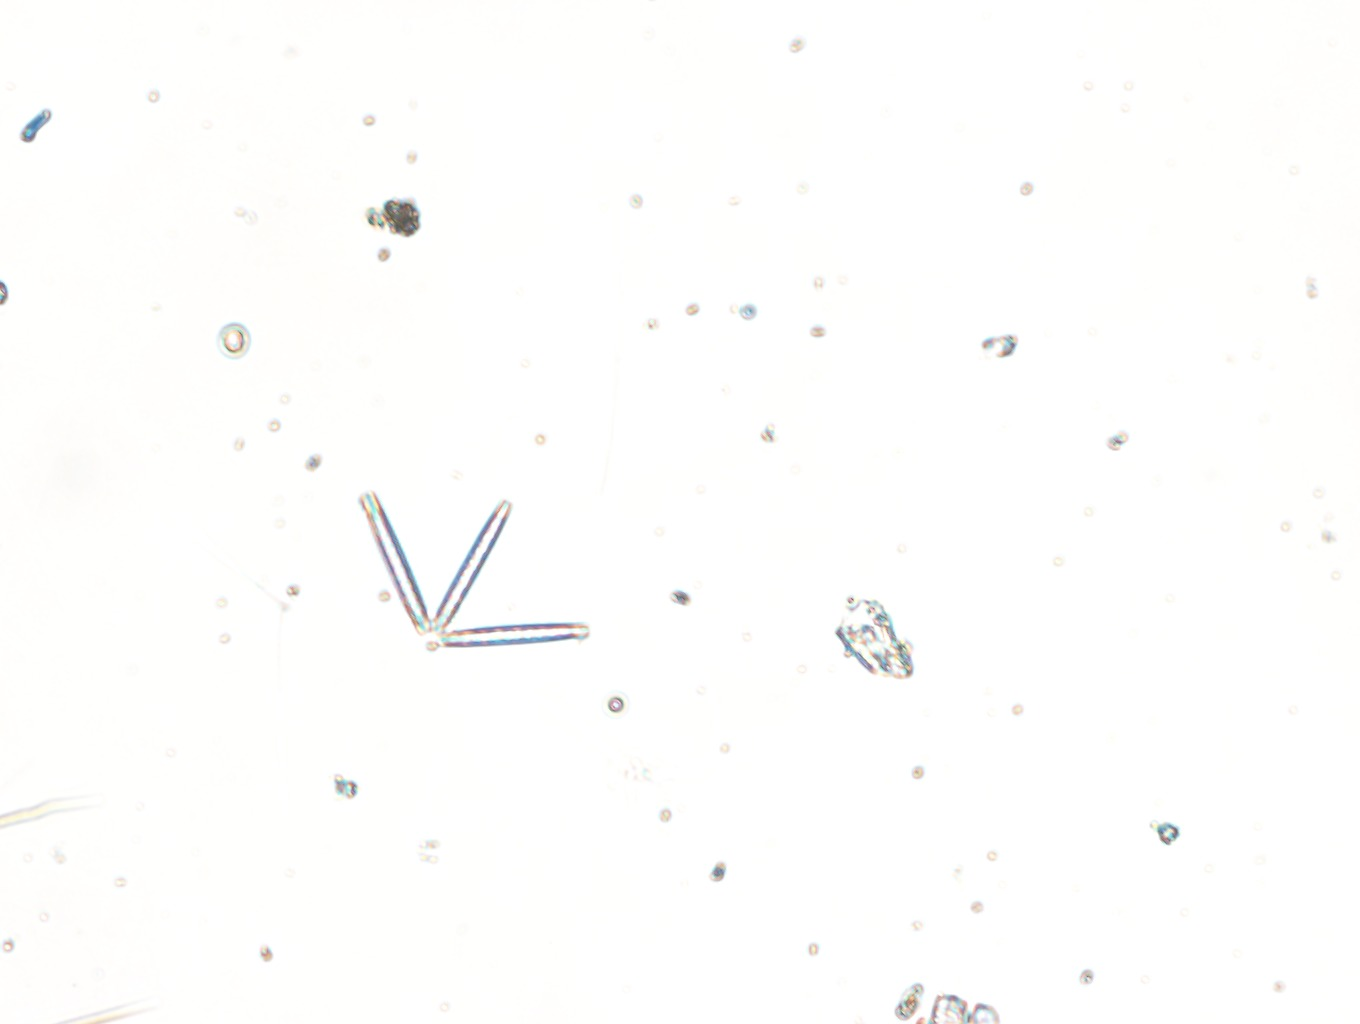thalassionema nitzschioides: (359, 497, 591, 657)
